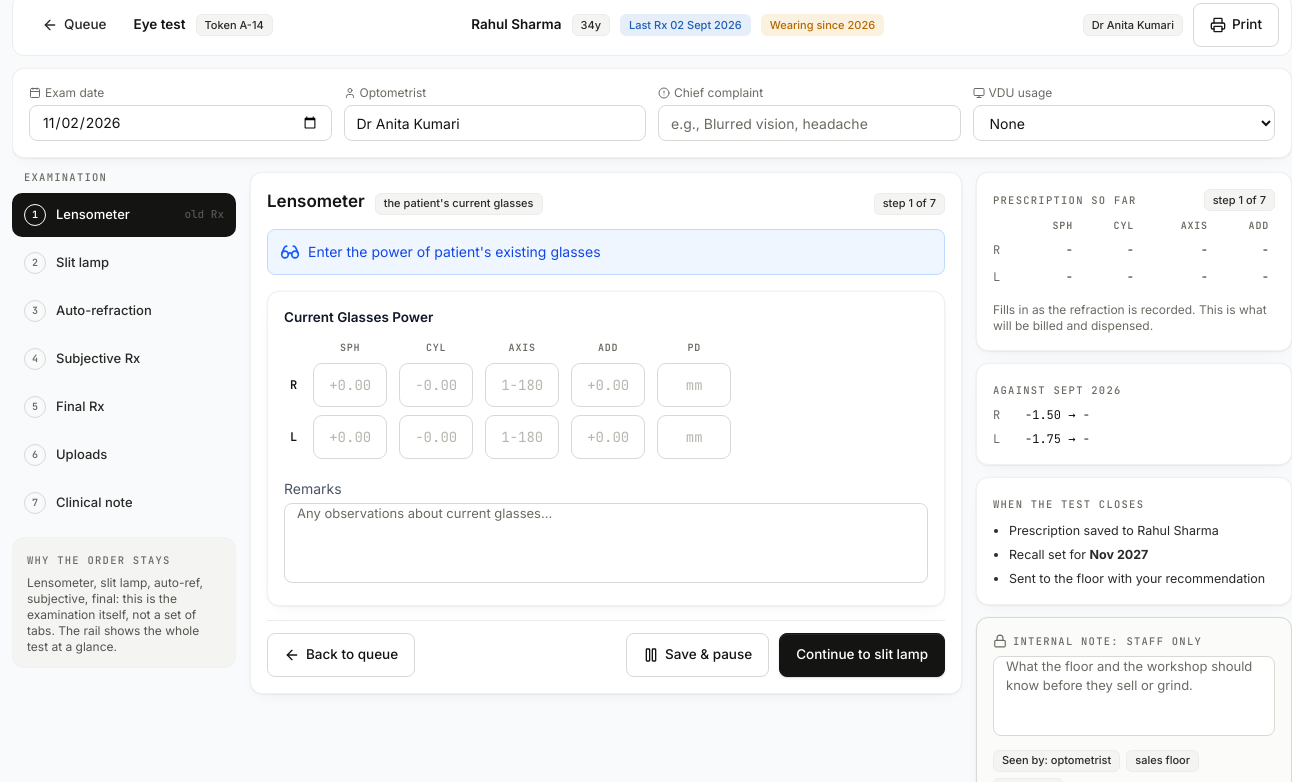
Test: Complete test › is offered from the Final Rx step on, not before
Expected: the button "1 Lensometer old Rx" is shown, 12,192 -> 236,236
Expected: the button "Complete test" is not shown
Click the button "5 Final Rx": (124, 406) 12,384 -> 236,428
(page scrolled)
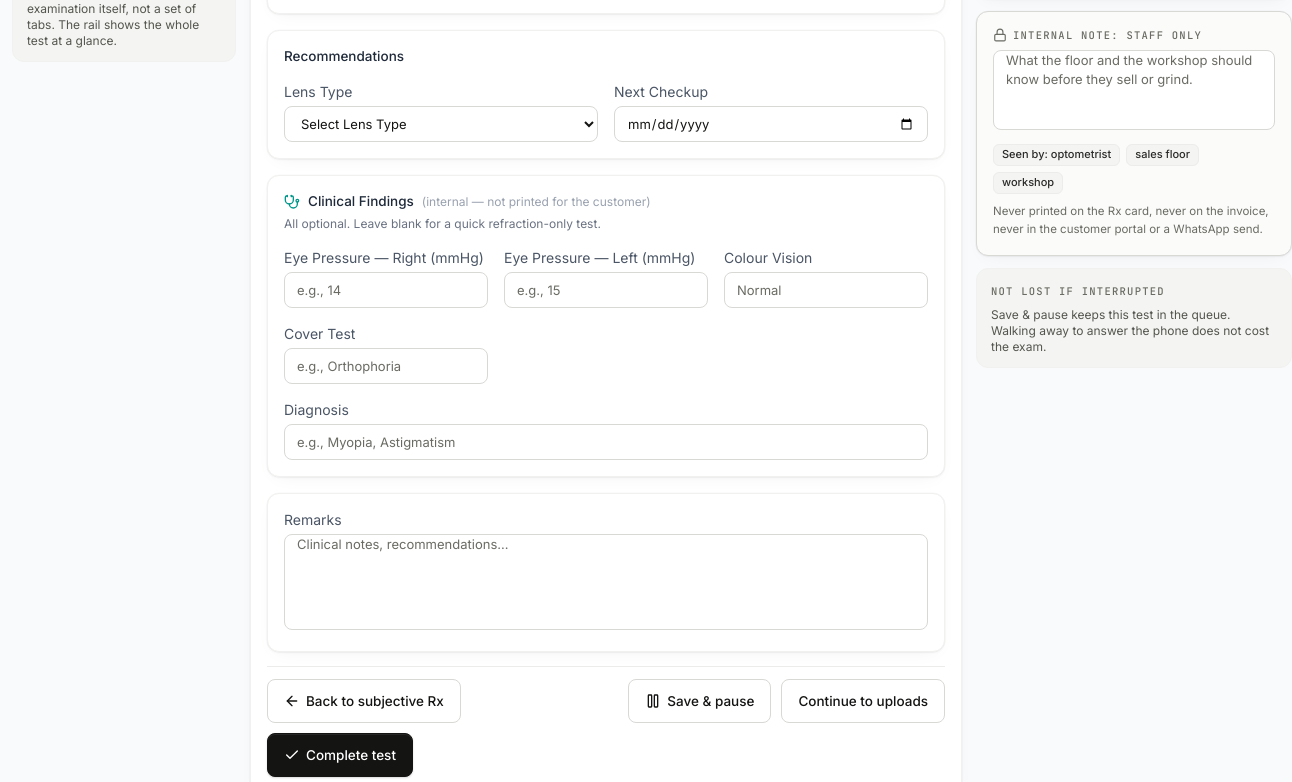
Result: the button "Complete test" is shown at 267,733 -> 413,777
